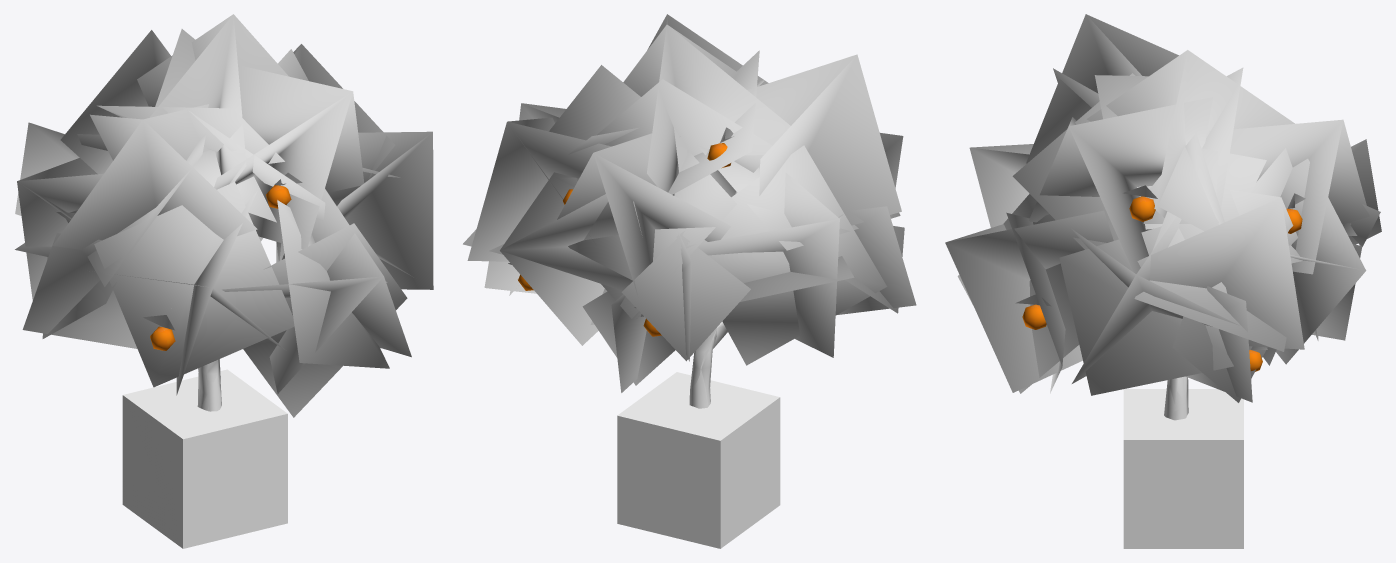
Rendered from plants_me_tree_orange01.gltf.
3 views of the same model, side by side, from view 1: azimuth 30°, elevation 25°; view 2: azimuth 150°, elevation 25°; view 3: azimuth 270°, elevation 25° (orthographic).
Visible parts, largest first — view 1: um_plants_me_tree_orange01_model_lod0Shape:plants_orange01_b, um_plants_me_tree_orange01_model_lod0Shape:objects_tree_deca, um_plants_me_tree_orange01_model_lod1Shape:plants_orange01_b, um_plants_me_tree_orange01_model_lod0Shape:plants_me_tree_or, um_plants_me_tree_orange01_model_lod1Shape:plants_orange01_t, um_plants_me_tree_orange01_model_lod0Shape:plants_orange01_t; view 2: um_plants_me_tree_orange01_model_lod0Shape:plants_orange01_b, um_plants_me_tree_orange01_model_lod0Shape:objects_tree_deca, um_plants_me_tree_orange01_model_lod1Shape:plants_orange01_b, um_plants_me_tree_orange01_model_lod0Shape:plants_orange01_t, um_plants_me_tree_orange01_model_lod1Shape:plants_orange01_t, um_plants_me_tree_orange01_model_lod0Shape:plants_me_tree_or; view 3: um_plants_me_tree_orange01_model_lod0Shape:plants_orange01_b, um_plants_me_tree_orange01_model_lod1Shape:plants_orange01_b, um_plants_me_tree_orange01_model_lod0Shape:objects_tree_deca, um_plants_me_tree_orange01_model_lod0Shape:plants_me_tree_or, um_plants_me_tree_orange01_model_lod1Shape:plants_orange01_t.
Part boxes in pixels (x1,y1,x2,y2): um_plants_me_tree_orange01_model_lod0Shape:plants_orange01_b: (15, 14, 433, 417); um_plants_me_tree_orange01_model_lod0Shape:objects_tree_deca: (122, 369, 287, 548); um_plants_me_tree_orange01_model_lod1Shape:plants_orange01_b: (90, 14, 364, 393); um_plants_me_tree_orange01_model_lod0Shape:plants_me_tree_or: (150, 185, 291, 350); um_plants_me_tree_orange01_model_lod1Shape:plants_orange01_t: (197, 359, 221, 411); um_plants_me_tree_orange01_model_lod0Shape:plants_orange01_t: (198, 360, 221, 411); um_plants_me_tree_orange01_model_lod0Shape:plants_orange01_b: (463, 14, 916, 392); um_plants_me_tree_orange01_model_lod0Shape:objects_tree_deca: (617, 372, 780, 548); um_plants_me_tree_orange01_model_lod1Shape:plants_orange01_b: (509, 55, 902, 357); um_plants_me_tree_orange01_model_lod0Shape:plants_orange01_t: (637, 242, 716, 406); um_plants_me_tree_orange01_model_lod1Shape:plants_orange01_t: (689, 321, 727, 408); um_plants_me_tree_orange01_model_lod0Shape:plants_me_tree_or: (518, 143, 730, 336); um_plants_me_tree_orange01_model_lod0Shape:plants_orange01_b: (945, 14, 1381, 402); um_plants_me_tree_orange01_model_lod1Shape:plants_orange01_b: (1029, 50, 1369, 383); um_plants_me_tree_orange01_model_lod0Shape:objects_tree_deca: (1123, 389, 1243, 548); um_plants_me_tree_orange01_model_lod0Shape:plants_me_tree_or: (1022, 196, 1302, 371); um_plants_me_tree_orange01_model_lod1Shape:plants_orange01_t: (1164, 377, 1188, 420).
Size of what is drawn, in the model's own units: 3.87 by 4.63 by 3.63.
Materials: 4 (1 with a texture image).
